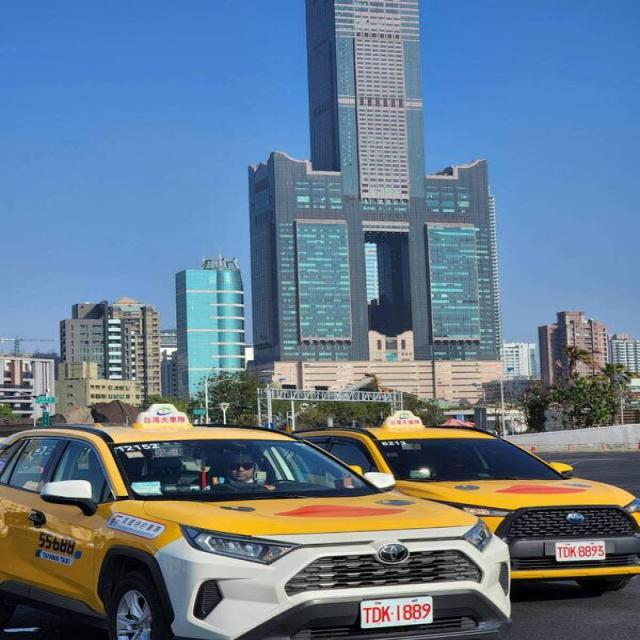Door: (298, 411, 640, 592)
Taxi: (0, 405, 510, 640)
